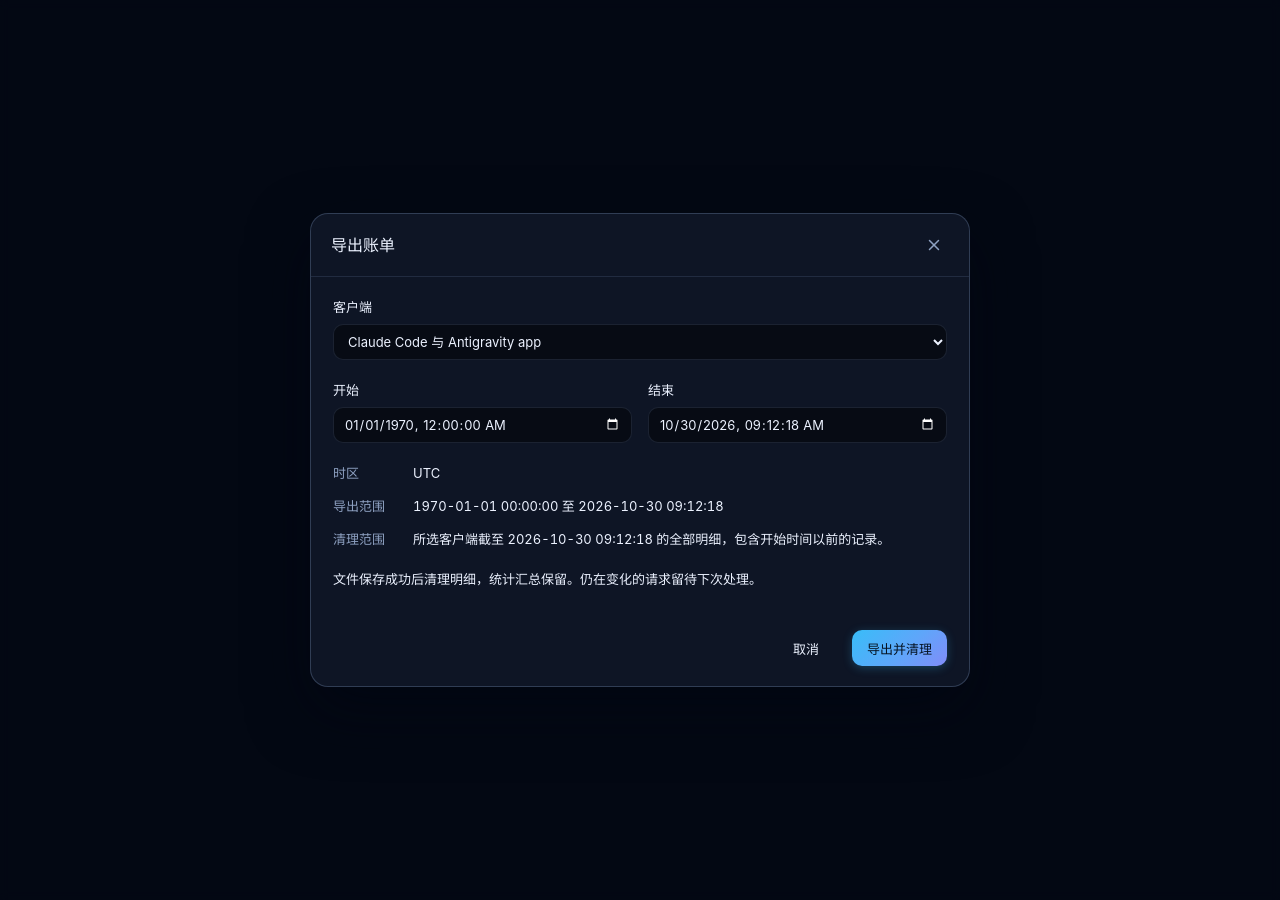
Test: preserves the dialog after native cancellation or failed save
The width and height of the screenshot is (1280, 900).
Select "Claude Code" in the dropdown labelled "客户端" at (640, 342), box [333,324,947,360]
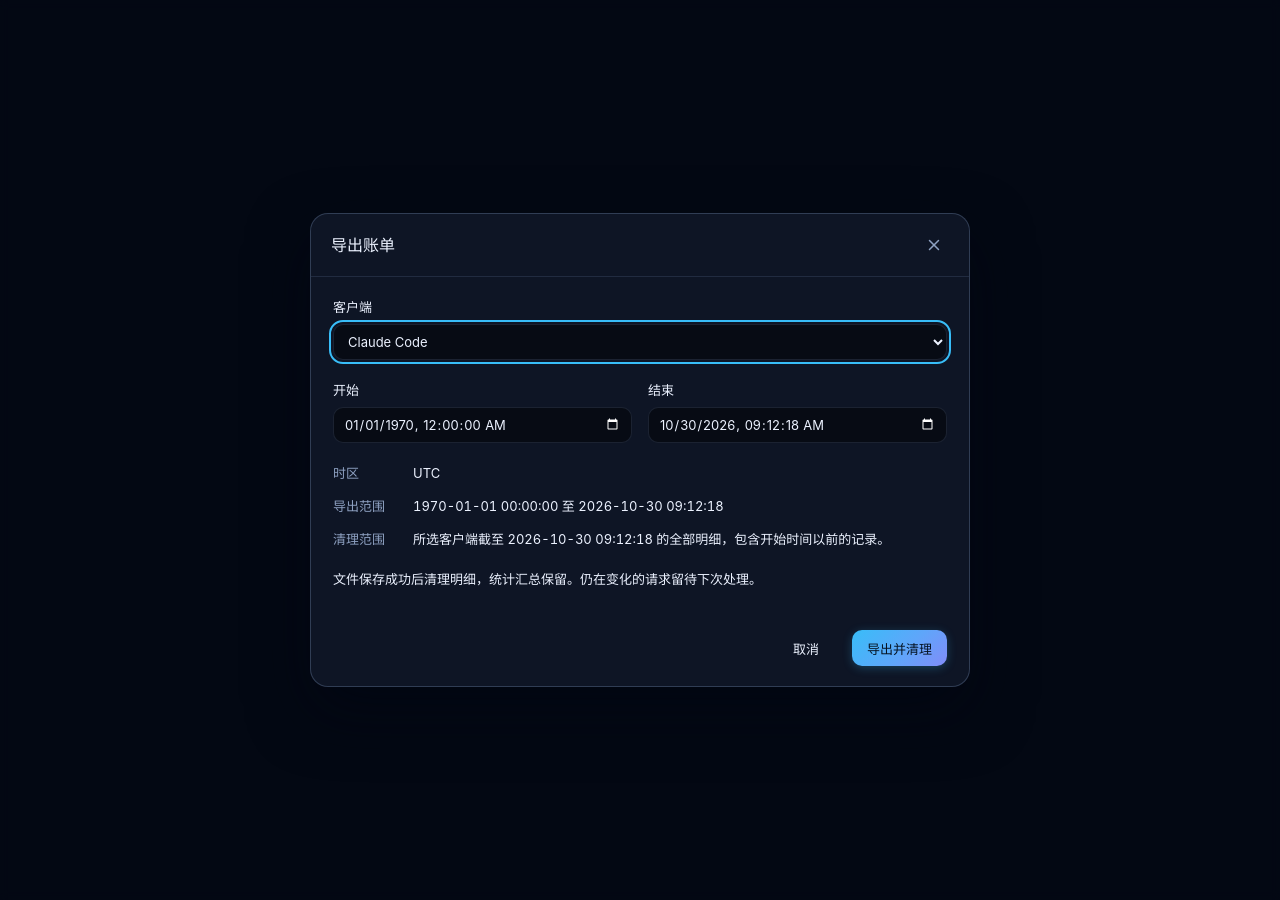
Click the button "导出并清理" at (900, 648), box [852,630,947,666]
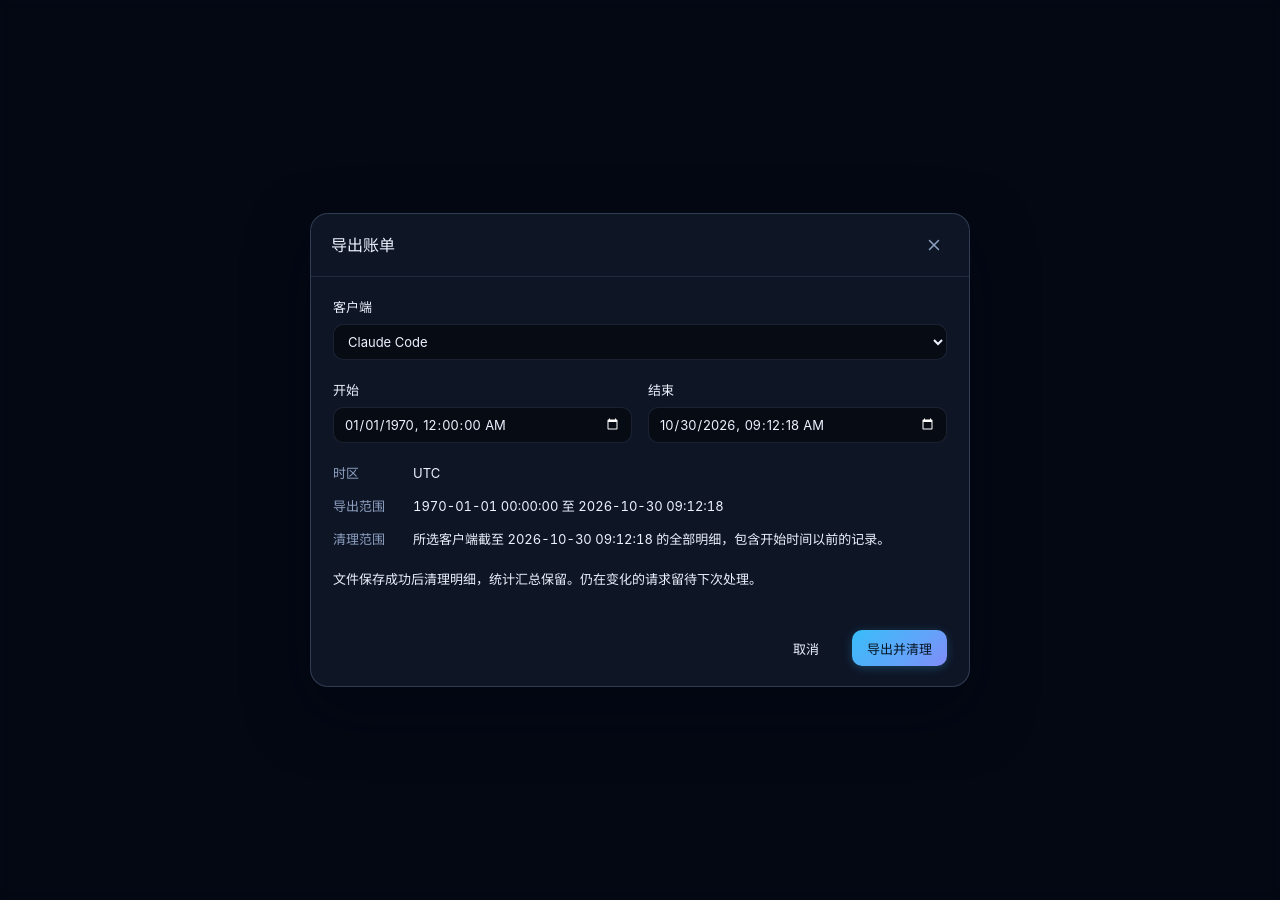
Click the button "导出并清理" at (900, 648), box [852,630,947,666]
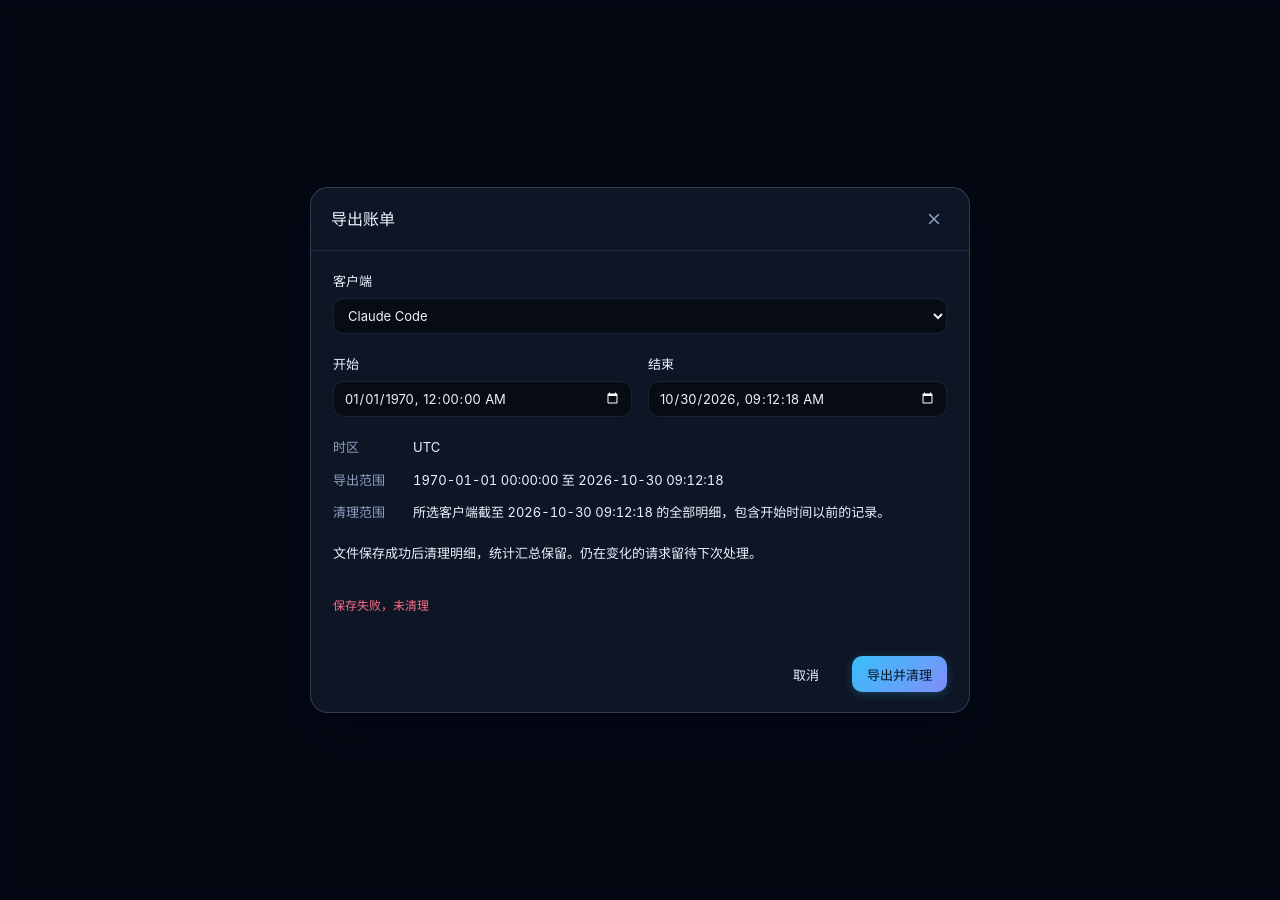
Now the message shows "保存失败", box [333,598,429,613]
